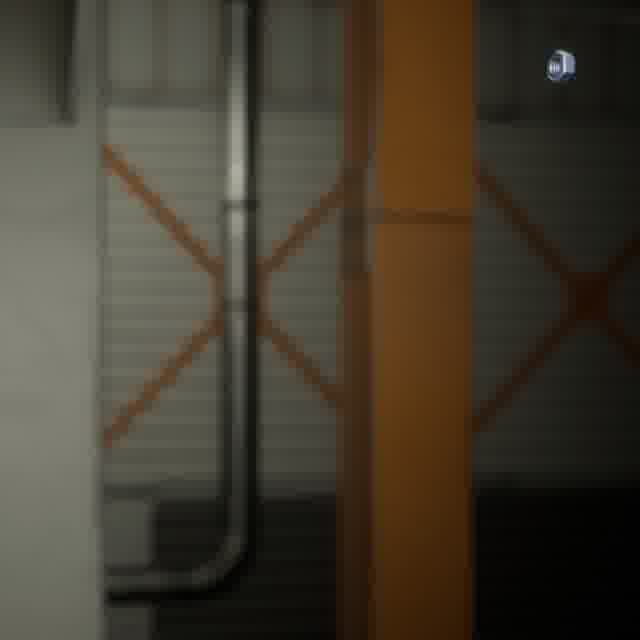nut: (542, 45, 579, 87)
